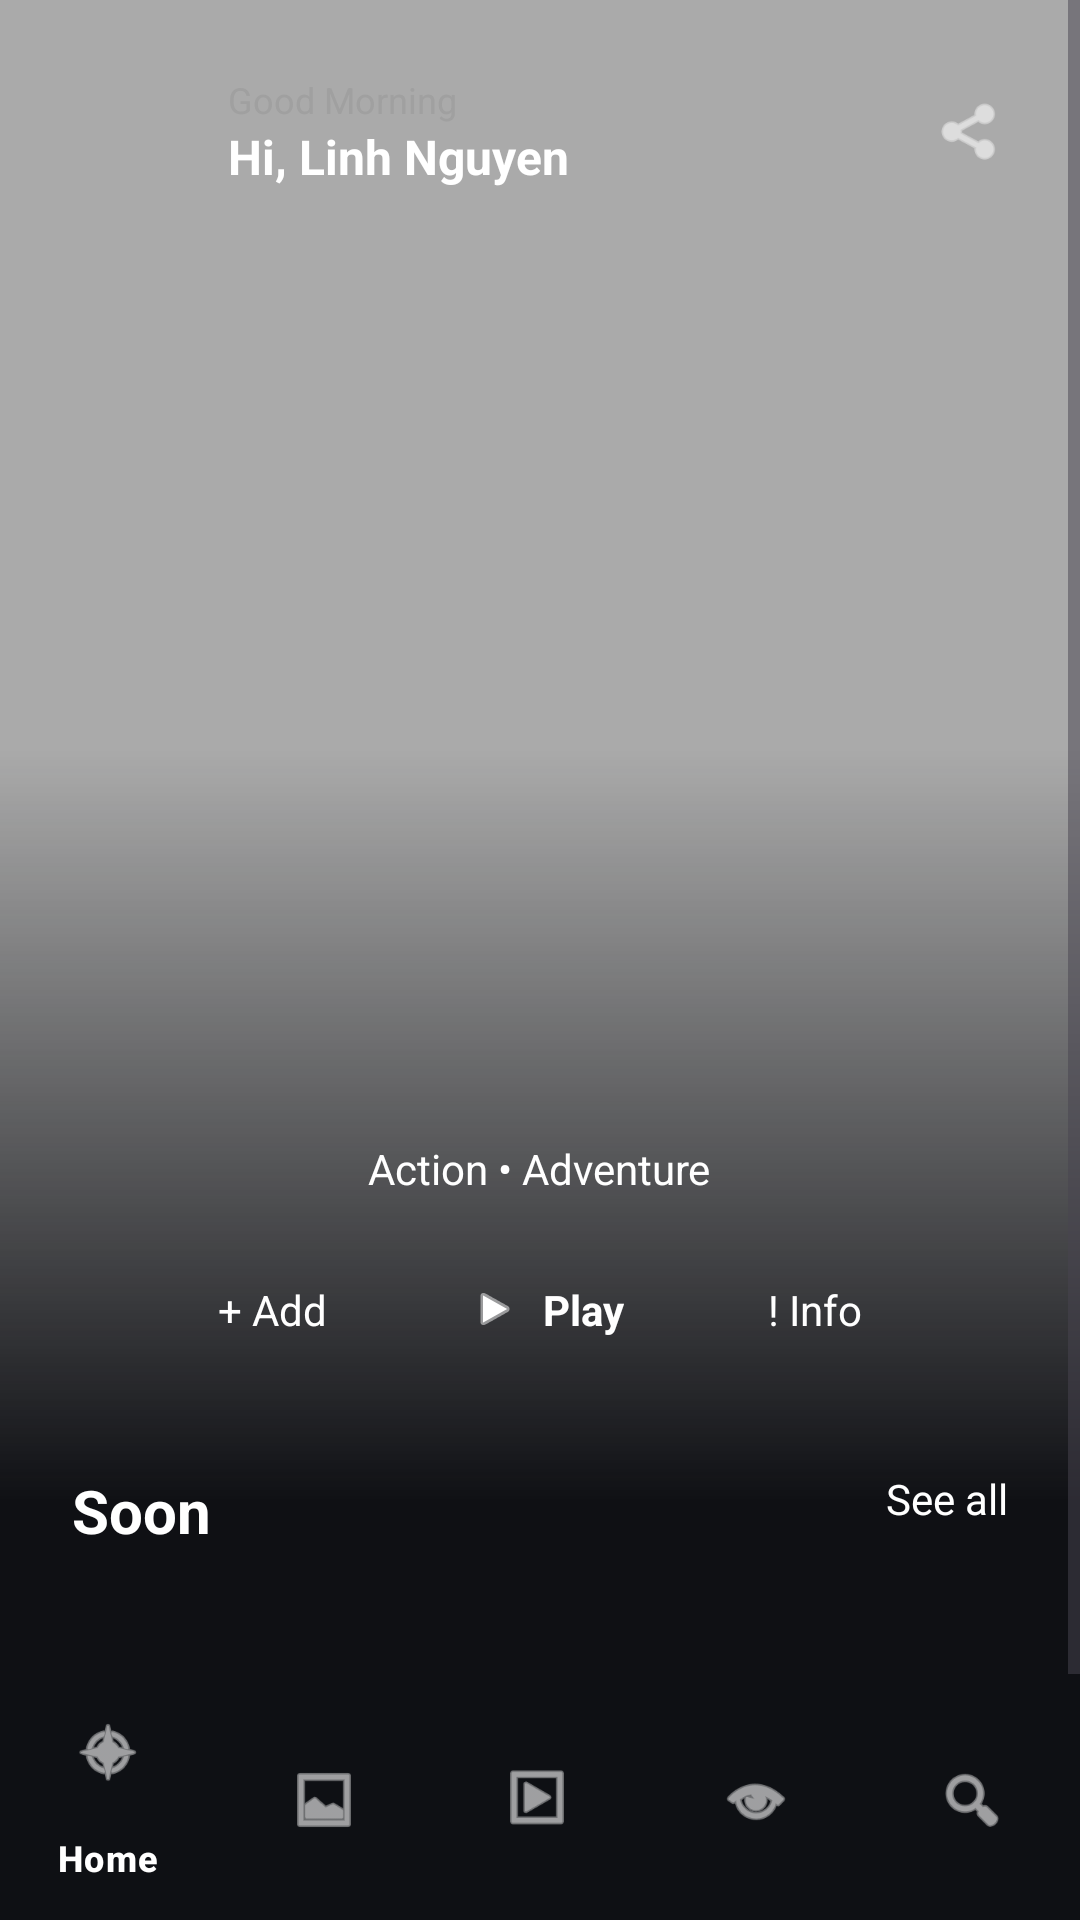

Icon bounding boxes for this 1080 × 1920 phone screenshot, format rect(x1, y1, x2, y2):
share: rect(942, 104, 995, 159)
